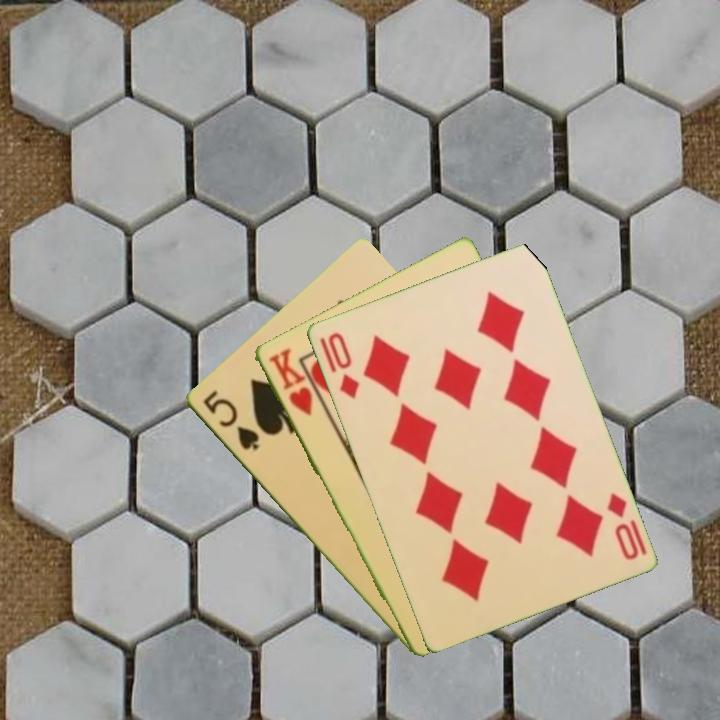10d: (602, 489, 650, 563), (323, 328, 362, 402)
5s: (198, 386, 262, 454)
Kh: (264, 344, 315, 419)
